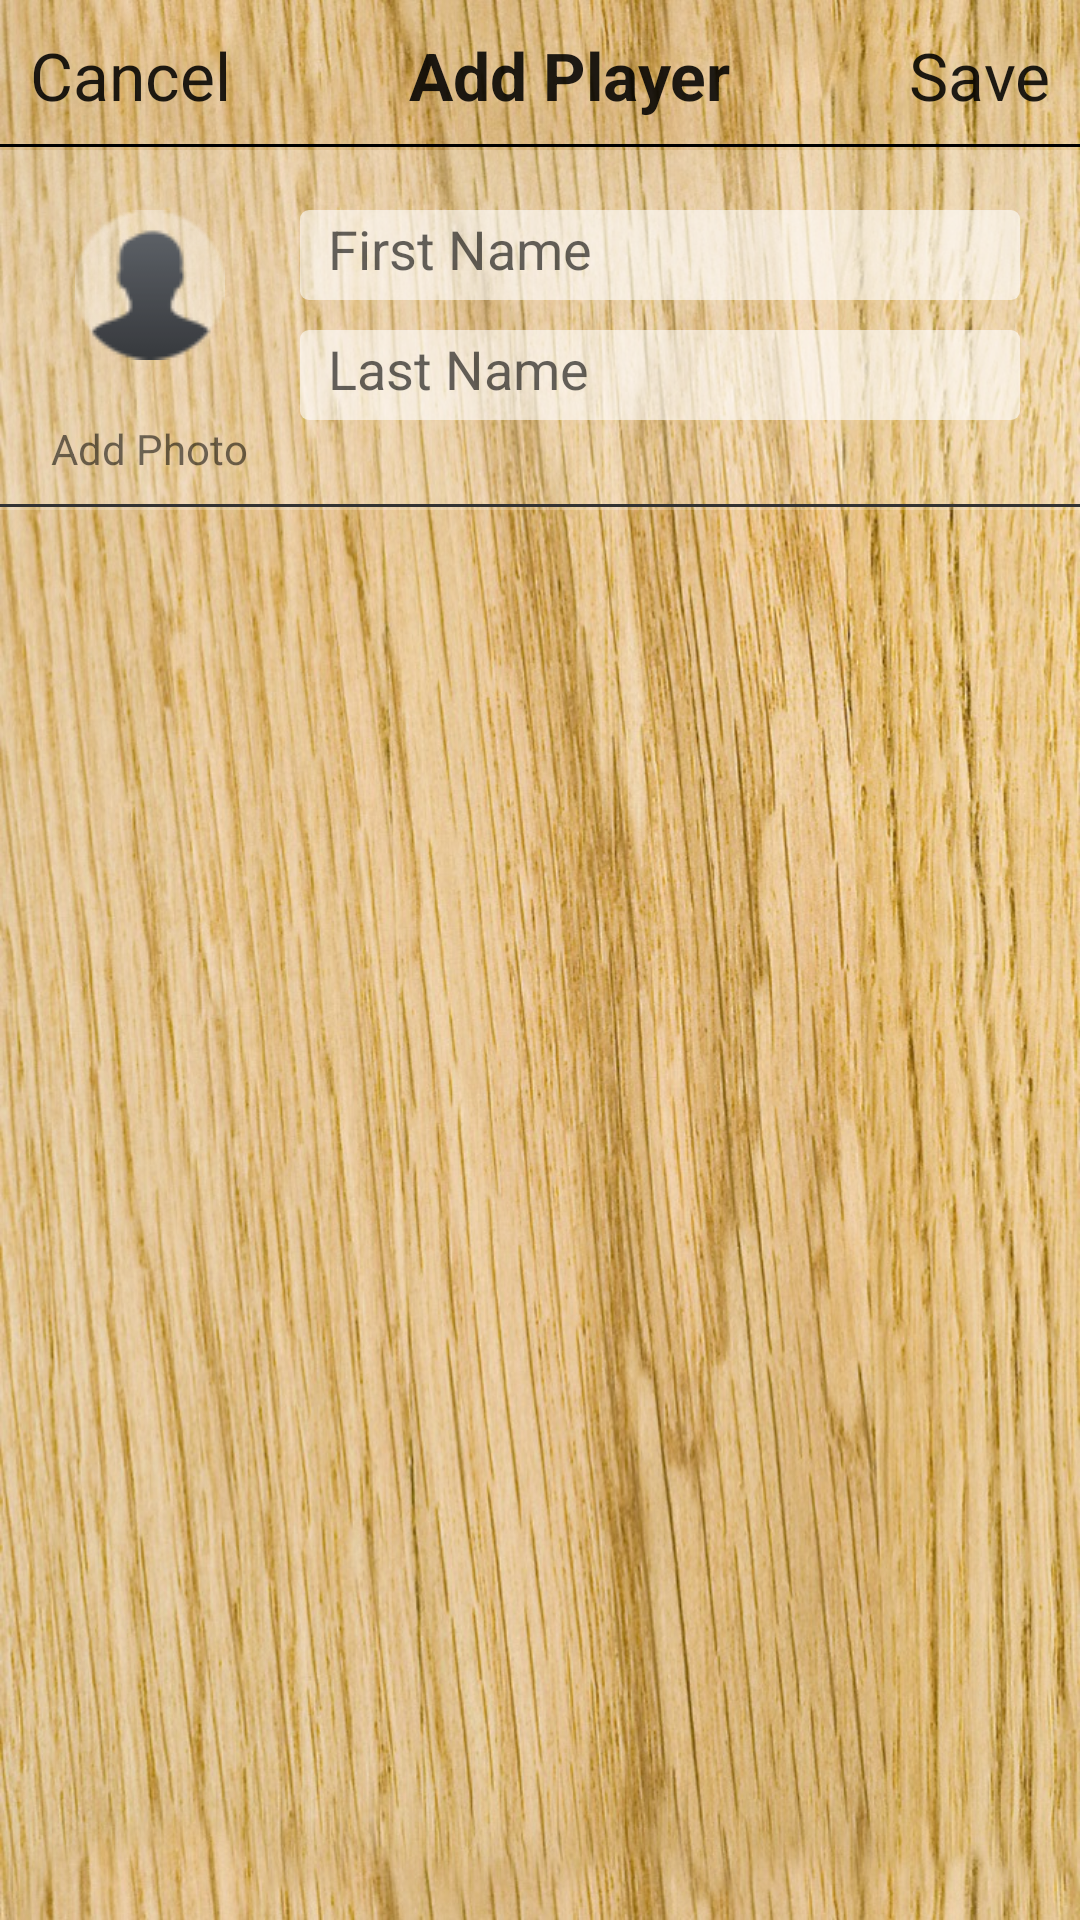

Icons on this 1080w x 1920h Android screen, each with its box as detection(x1, y1, x2, y2):
iconplayer: detection(75, 210, 225, 360)
